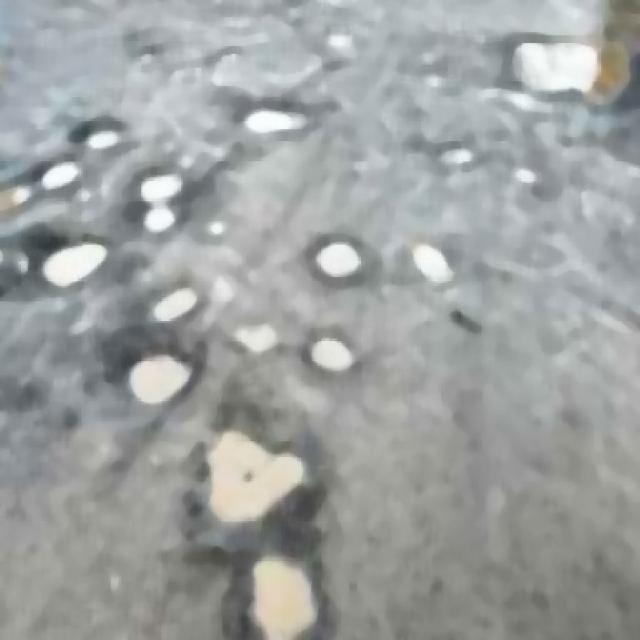Pothole: (199, 396, 307, 532), (502, 29, 635, 120), (5, 234, 128, 295), (246, 550, 326, 636), (116, 331, 186, 414), (396, 227, 458, 302), (237, 104, 318, 148), (311, 316, 355, 392), (314, 233, 368, 292), (81, 108, 128, 166), (37, 155, 80, 187)
